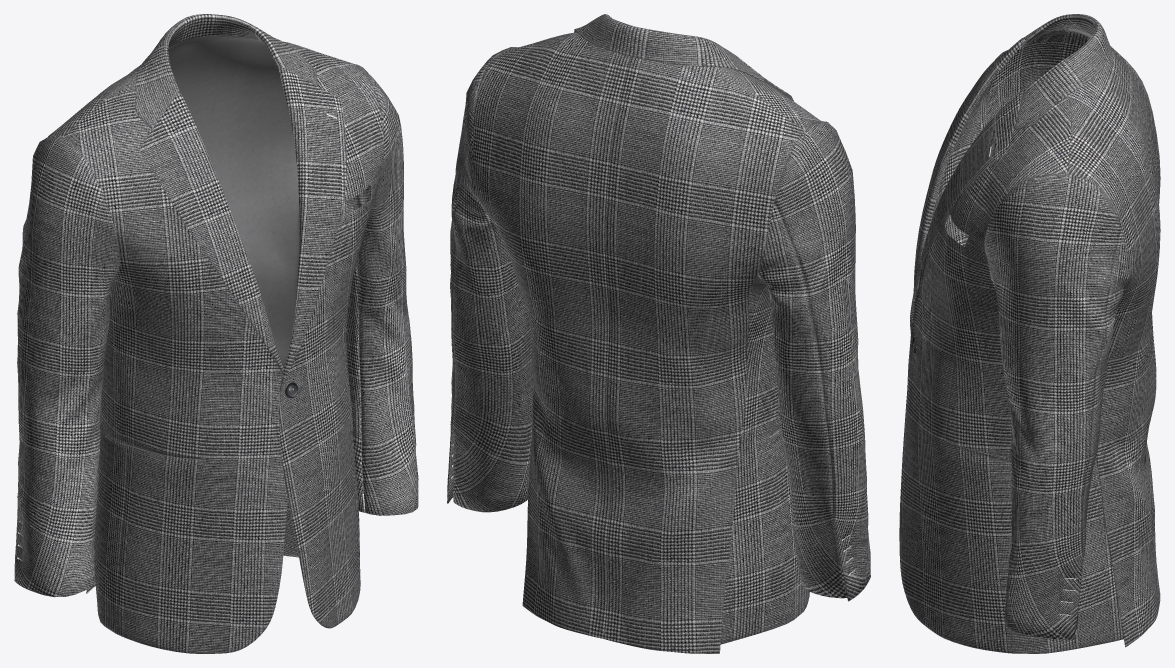
Rendered from nochsinglebutton.glb.
3 renders of one model, left to right at view 1: azimuth 30°, elevation 25°; view 2: azimuth 150°, elevation 25°; view 3: azimuth 270°, elevation 25°, orthographic. The views are drawn at different scales.
Parts seen in each view (by area): view 1: notch_single_button1, Sleves, Full_Lined, Notch_Collar, Double_vent; view 2: Double_vent, Sleves, notch_single_button1, Notch_Collar; view 3: notch_single_button1, Sleves, Double_vent, Notch_Collar.
Part boxes in pixels (x1=…): notch_single_button1: x1=64, y1=44, x2=383, y2=653; Sleves: x1=14, y1=63, x2=418, y2=597; Full_Lined: x1=87, y1=35, x2=299, y2=589; Notch_Collar: x1=135, y1=14, x2=317, y2=127; Double_vent: x1=48, y1=41, x2=354, y2=593; Double_vent: x1=472, y1=32, x2=804, y2=653; Sleves: x1=447, y1=47, x2=870, y2=601; notch_single_button1: x1=500, y1=32, x2=821, y2=644; Notch_Collar: x1=574, y1=14, x2=765, y2=81; notch_single_button1: x1=899, y1=28, x2=1126, y2=653; Sleves: x1=984, y1=29, x2=1130, y2=639; Double_vent: x1=1067, y1=28, x2=1160, y2=647; Notch_Collar: x1=1014, y1=14, x2=1110, y2=129.
Size of the model in its own units: 0.0774 by 0.1082 by 0.0446.
Materials: 10 (7 with a texture image).
